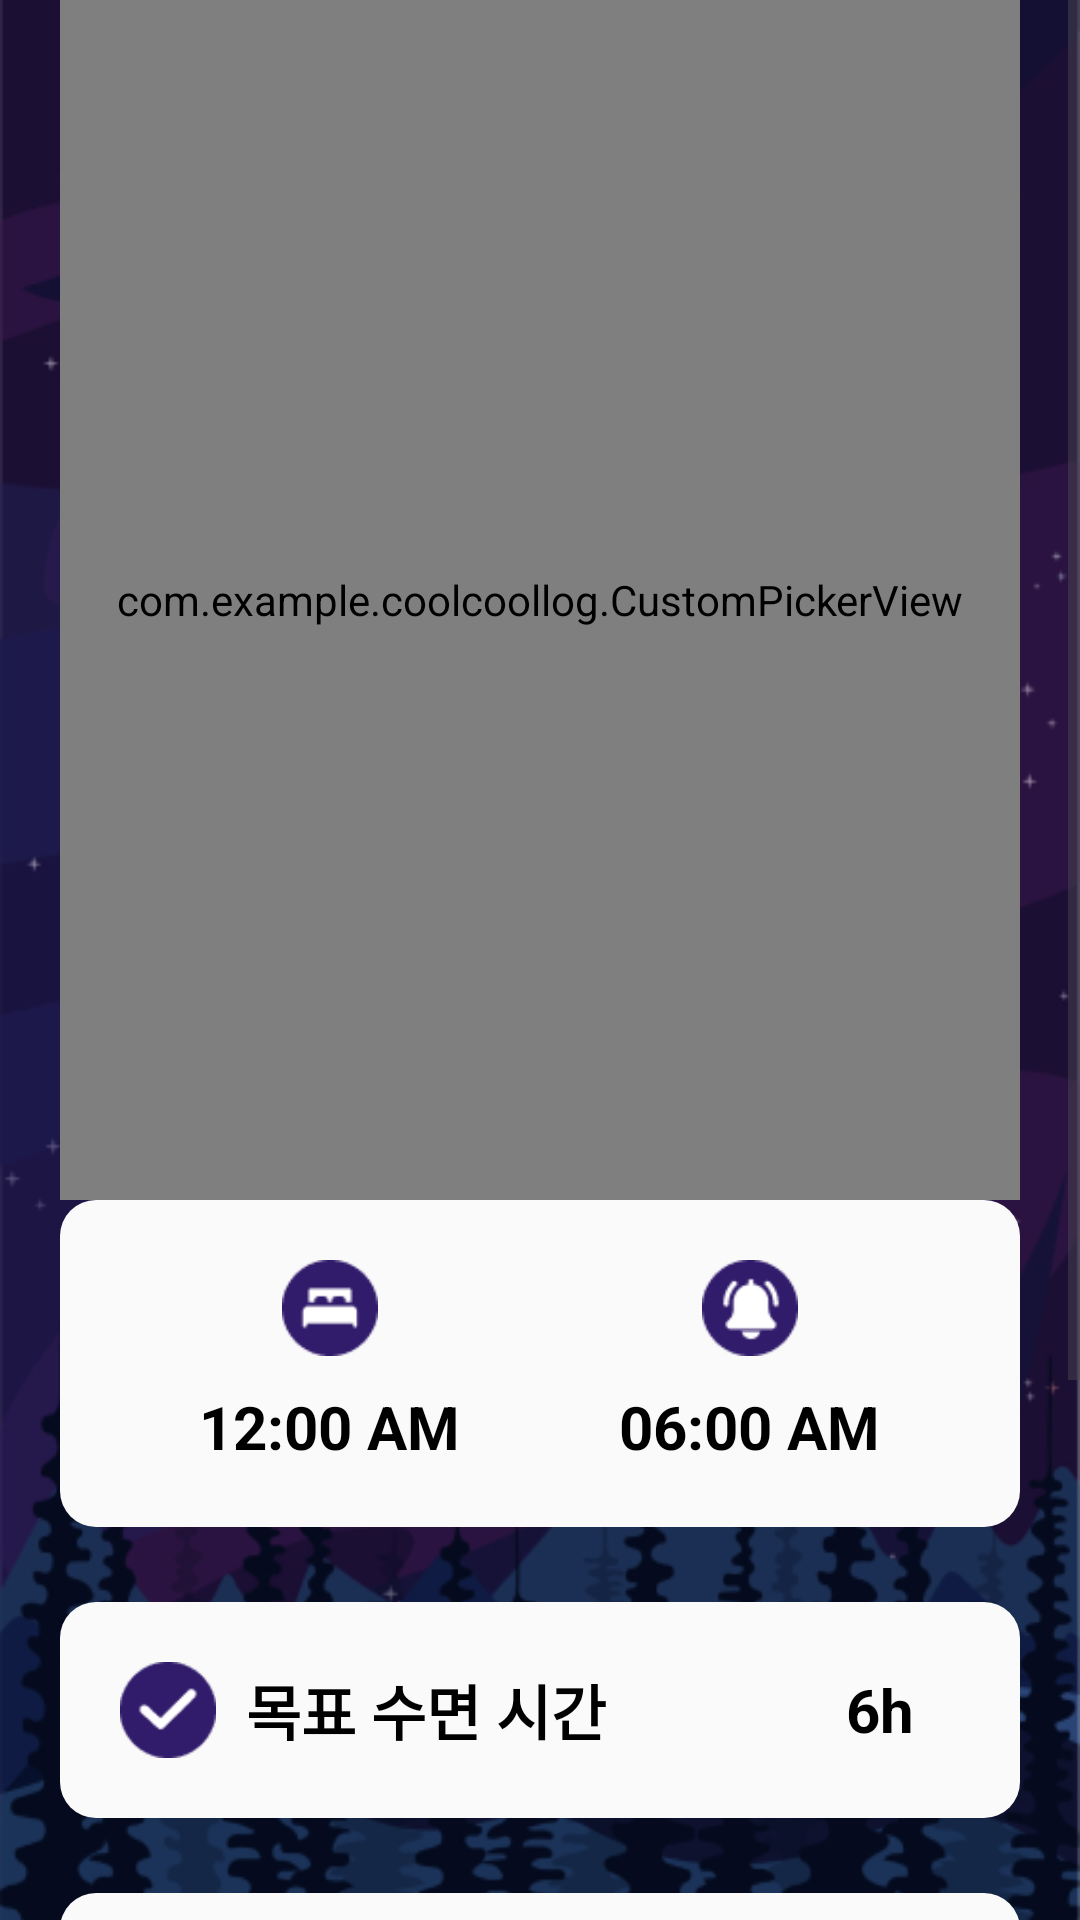

Where icons sit on this 1080x1920 app screen, as (x1=x1, y1=y1, x2=x2, y2=y2):
Bedtime Icon: (x1=282, y1=1260, x2=378, y2=1356)
Goal Icon: (x1=120, y1=1662, x2=216, y2=1758)
Wake Time Icon: (x1=702, y1=1260, x2=798, y2=1356)
